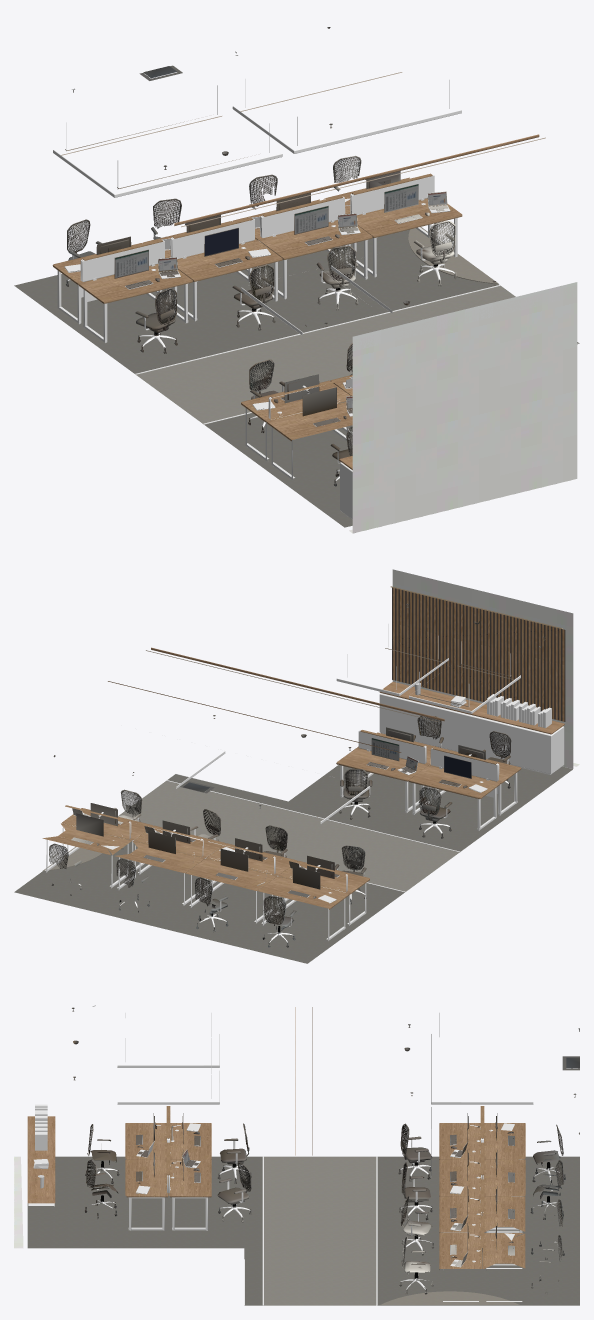
The model's file is z-open_e-lite.light.4964daf4.glb.
3 renders of one model, top to bottom at view 1: azimuth 30°, elevation 25°; view 2: azimuth 150°, elevation 25°; view 3: azimuth 270°, elevation 25°, orthographic. The views are drawn at different scales.
Visible parts, largest first — view 1: open_e_plaster, open_e_carpet, open_e_oak, open_e_fx, open_e_satin, open_e_emit, open_e_metal_lit; view 2: open_e_carpet, open_e_proxy_slat, open_e_oak, open_e_satin, open_e_fx, open_e_plaster, open_e_emit, open_e_metal_lit; view 3: open_e_carpet, open_e_oak, open_e_fx, open_e_satin, open_e_metal_lit, open_e_plaster.
Boxes of the visible parts, box(x1,y1,x2,y2) form: open_e_plaster: box(349, 282, 577, 533); open_e_carpet: box(14, 227, 579, 527); open_e_oak: box(52, 134, 539, 469); open_e_fx: box(66, 27, 495, 486); open_e_satin: box(53, 79, 500, 519); open_e_emit: box(61, 72, 545, 408); open_e_metal_lit: box(64, 191, 579, 480); open_e_carpet: box(14, 765, 572, 963); open_e_proxy_slat: box(392, 587, 565, 721); open_e_oak: box(42, 647, 564, 909); open_e_satin: box(45, 624, 564, 940); open_e_fx: box(49, 603, 545, 947); open_e_plaster: box(392, 569, 579, 768); open_e_emit: box(146, 586, 562, 817); open_e_metal_lit: box(74, 743, 508, 942); open_e_carpet: box(27, 1156, 579, 1305); open_e_oak: box(27, 1007, 525, 1269); open_e_fx: box(72, 1007, 579, 1294); open_e_satin: box(28, 1005, 533, 1305); open_e_metal_lit: box(89, 1123, 559, 1305); open_e_plaster: box(14, 1156, 23, 1248).
Size of the model in its own units: 6.5 by 3.35 by 10.45.
Materials: 9 (6 with a texture image).
